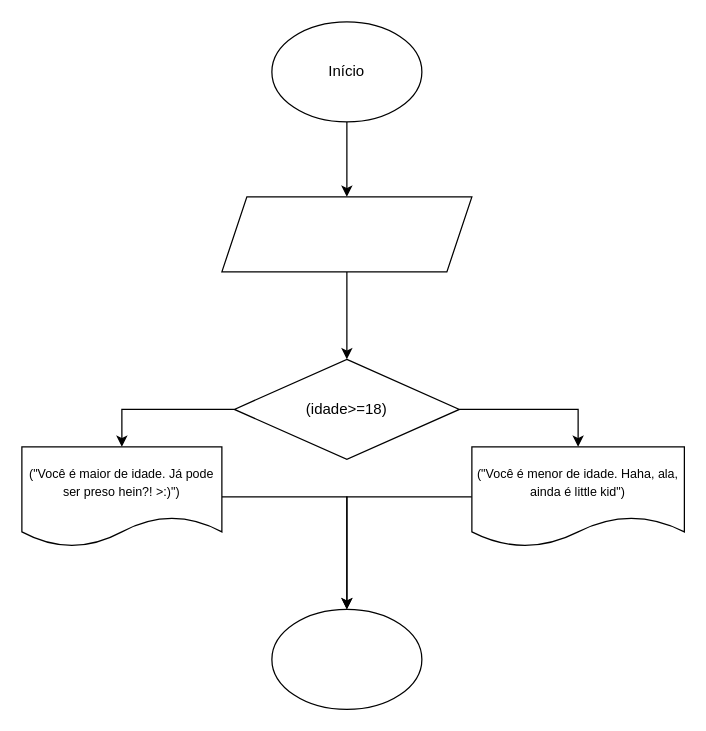
The diagram is 706 pixels wide and 731 high, and some of its shapes have lost their labels. Here are the shapes that lost their labels. From the top down, the centre of each, then its label:
At (x=346, y=234): "nome, idade".
At (x=346, y=658): "Fim".
